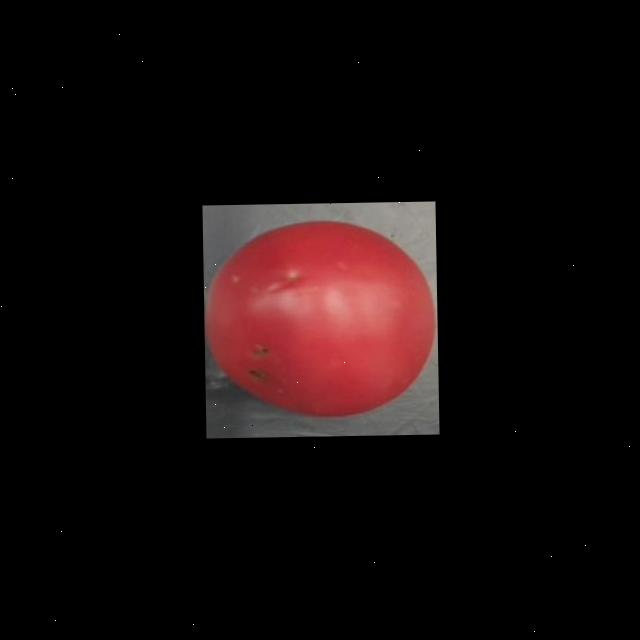tomato: (204, 216, 438, 422)
